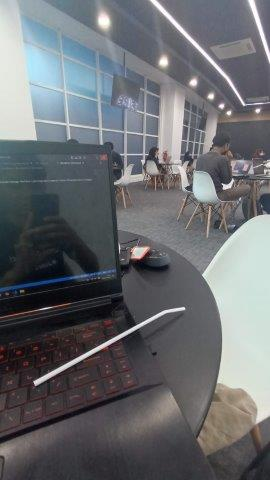sedotan: (33, 307, 185, 386)
